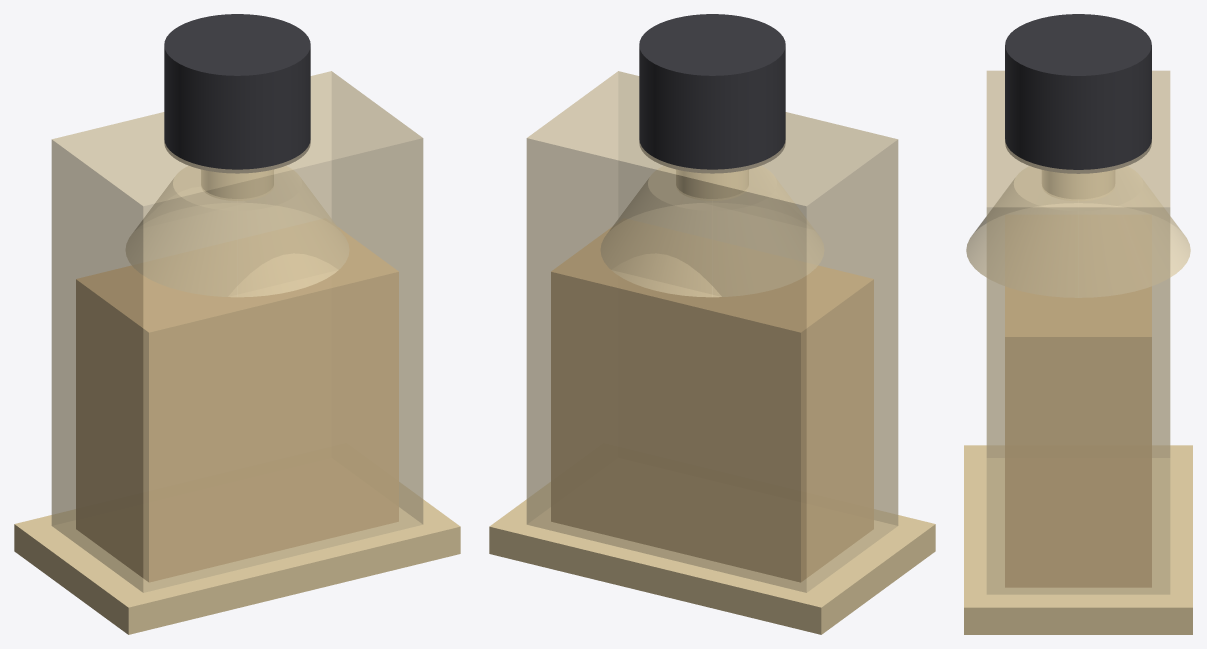
File: demo-flacon.gltf
3 renders of one model, left to right at view 1: azimuth 30°, elevation 25°; view 2: azimuth 150°, elevation 25°; view 3: azimuth 270°, elevation 25°, orthographic.
Visible parts, largest first — view 1: Bottle, Cap; view 2: Bottle, Cap; view 3: Bottle, Cap.
Part boxes in pixels (x1=…): Bottle: x1=14, y1=71, x2=460, y2=634; Cap: x1=164, y1=14, x2=310, y2=173; Bottle: x1=489, y1=71, x2=935, y2=634; Cap: x1=639, y1=14, x2=785, y2=173; Bottle: x1=964, y1=70, x2=1192, y2=634; Cap: x1=1005, y1=14, x2=1151, y2=173.
Size of the model in its own units: 1.78 by 2.6 by 1.06.
